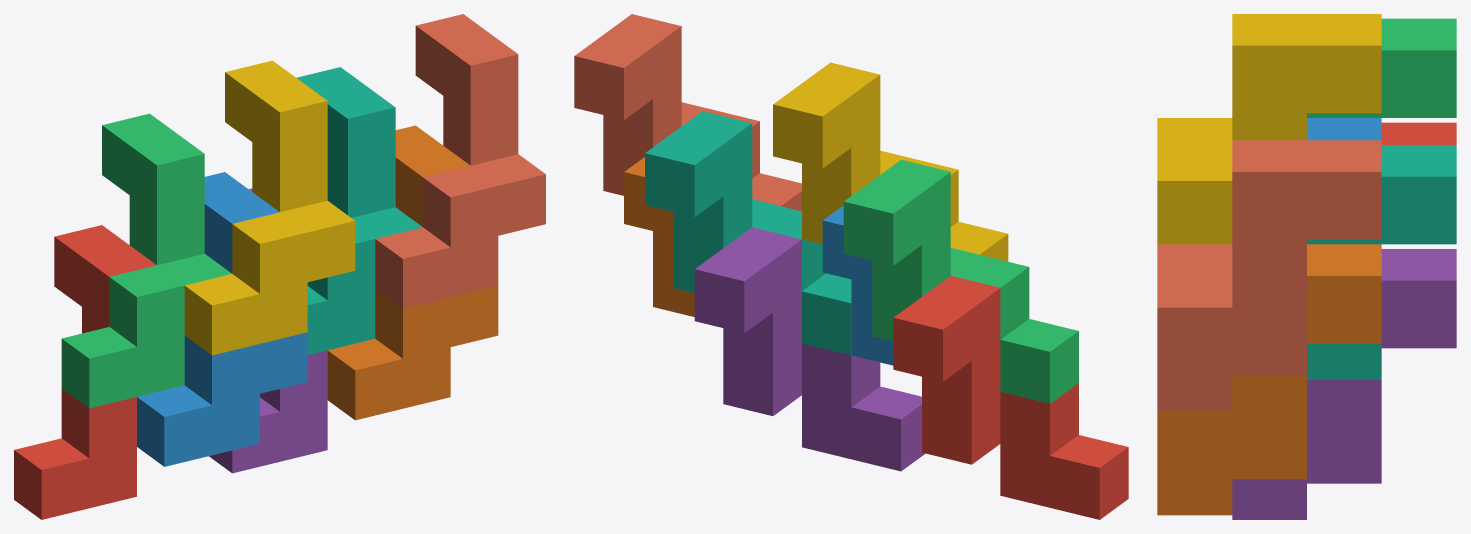
File: tiling.obj
3 renders of one model, left to right at view 1: azimuth 30°, elevation 25°; view 2: azimuth 150°, elevation 25°; view 3: azimuth 270°, elevation 25°, orthographic. The views are drawn at different scales.
Parts seen in each view (by area): view 1: copy_1_domain_8, copy_1_domain_4, copy_1_domain_3, copy_1_domain_2, copy_1_domain_6, copy_1_domain_1, copy_1_domain_7, copy_1_domain_5; view 2: copy_1_domain_1, copy_1_domain_5, copy_1_domain_3, copy_1_domain_7, copy_1_domain_4, copy_1_domain_8, copy_1_domain_2, copy_1_domain_6; view 3: copy_1_domain_8, copy_1_domain_4, copy_1_domain_6, copy_1_domain_5, copy_1_domain_7, copy_1_domain_3, copy_1_domain_1, copy_1_domain_2.
Boxes of the visible parts, <box> form: copy_1_domain_8: <box>375,14,545,308</box>; copy_1_domain_4: <box>184,60,355,355</box>; copy_1_domain_3: <box>61,113,231,408</box>; copy_1_domain_2: <box>137,172,307,466</box>; copy_1_domain_6: <box>327,125,498,420</box>; copy_1_domain_1: <box>14,225,156,519</box>; copy_1_domain_7: <box>296,67,422,354</box>; copy_1_domain_5: <box>209,188,327,473</box>; copy_1_domain_1: <box>893,276,1128,519</box>; copy_1_domain_5: <box>694,227,925,471</box>; copy_1_domain_3: <box>843,159,1078,403</box>; copy_1_domain_7: <box>645,111,851,355</box>; copy_1_domain_4: <box>773,62,1008,261</box>; copy_1_domain_8: <box>574,14,801,211</box>; copy_1_domain_2: <box>822,205,893,365</box>; copy_1_domain_6: <box>624,157,694,316</box>; copy_1_domain_8: <box>1157,140,1381,411</box>; copy_1_domain_4: <box>1157,14,1381,244</box>; copy_1_domain_6: <box>1157,244,1381,515</box>; copy_1_domain_5: <box>1232,249,1456,519</box>; copy_1_domain_7: <box>1307,145,1456,379</box>; copy_1_domain_3: <box>1307,18,1456,117</box>; copy_1_domain_1: <box>1381,122,1456,144</box>; copy_1_domain_2: <box>1307,118,1381,140</box>.
Bounding box in the file's own units: 10 × 7 × 4.
